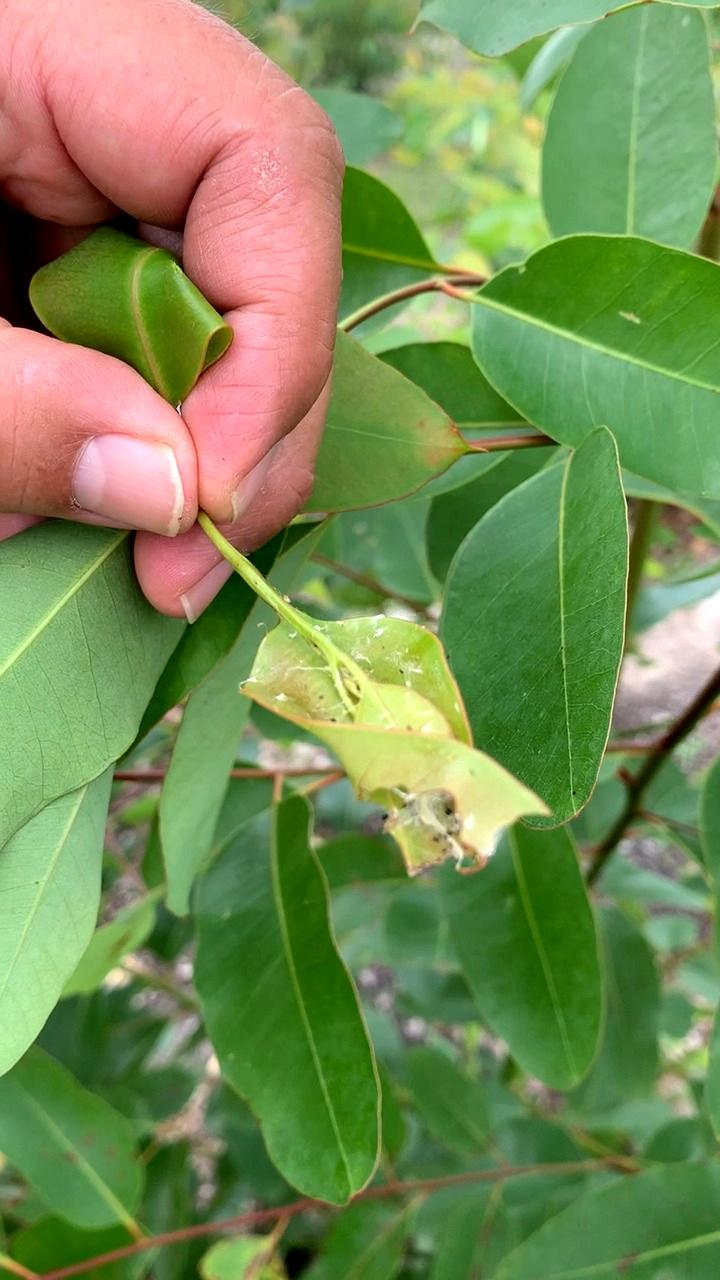Leaf Roller - Leaf: (229, 602, 556, 900)
